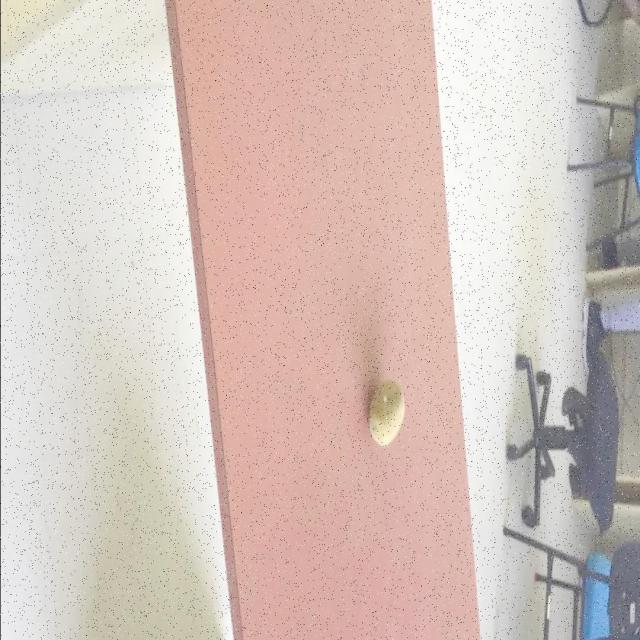Kiwi: (369, 379, 405, 446)
